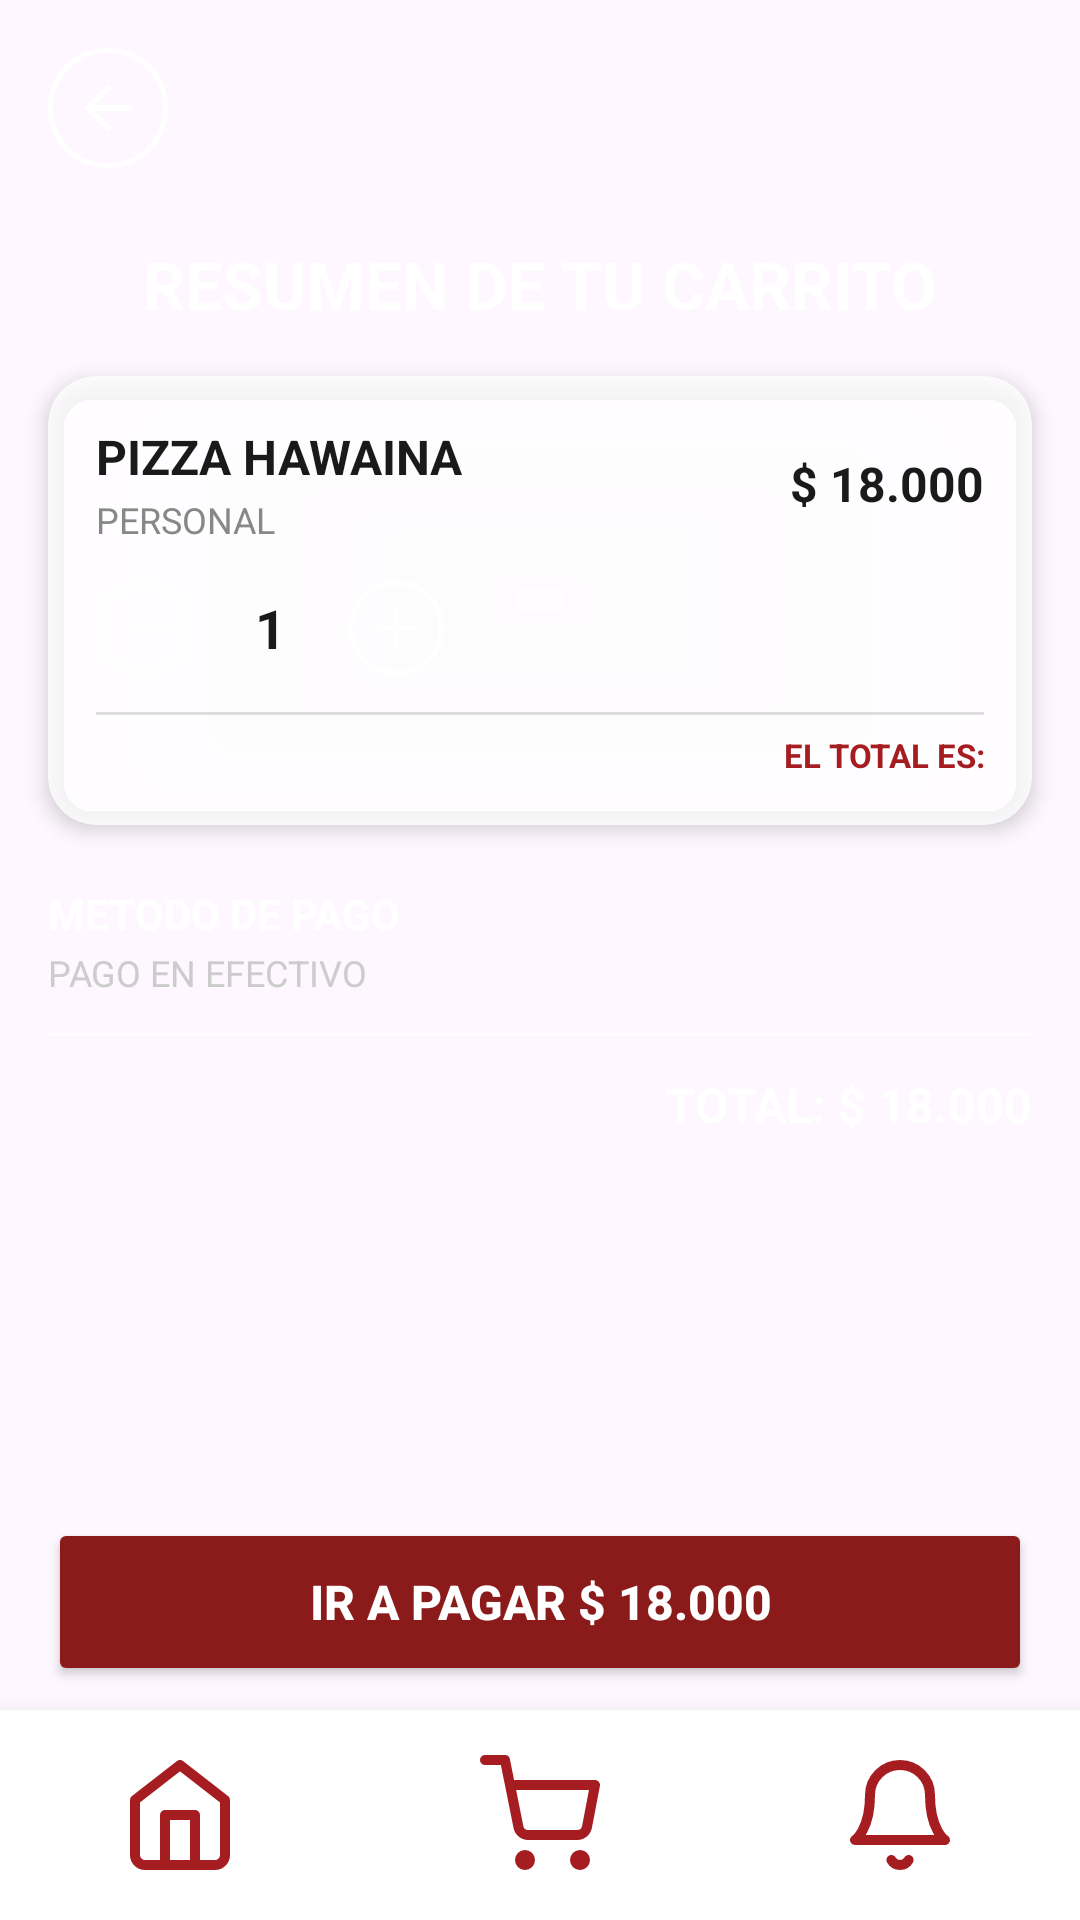

Point at icon controls on the screen. Image size 1080 x 1920, points as (x,y).
Carrito: (540,1812)
Inicio: (180,1815)
Notificaciones: (900,1815)
